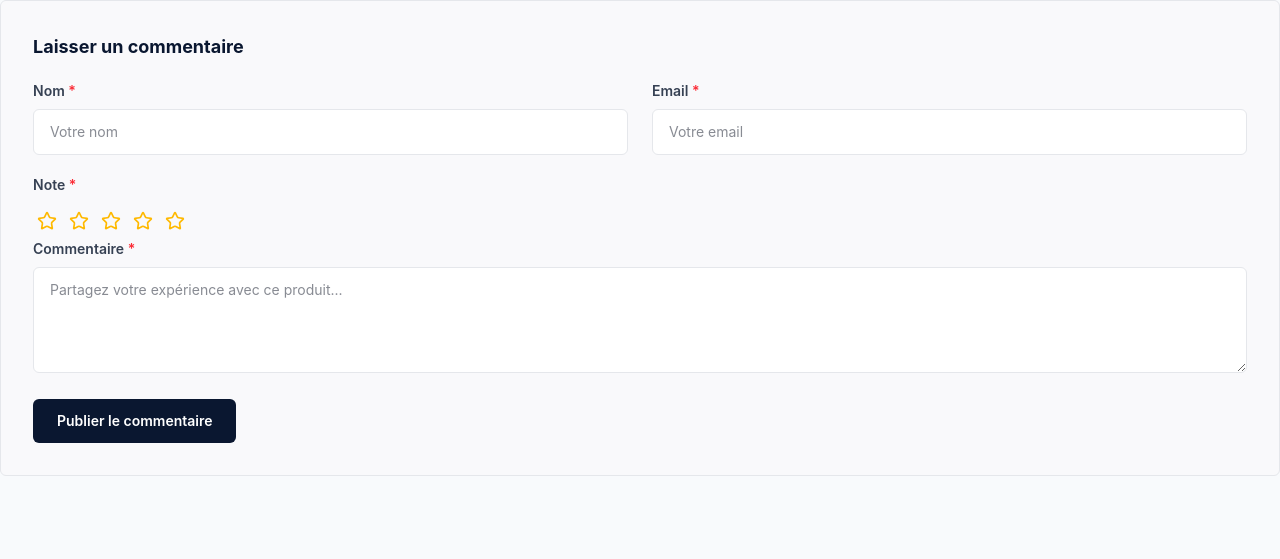
Test: ReviewForm › erreur si commentaire trop court
This screenshot has width=1280, height=559.
Type "Jean Dupont" into the field labelled "Nom *" at coordinates (330, 132), box [33,109,628,155]
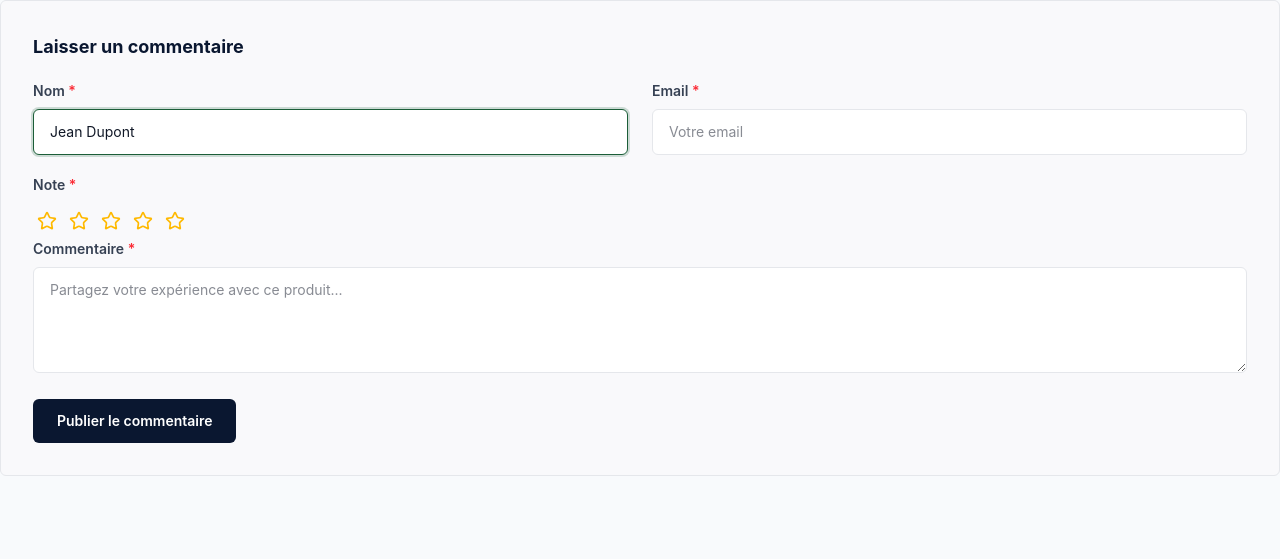
Type "ok" into the text box labelled "Commentaire *" at coordinates (640, 320), box [33,267,1247,373]
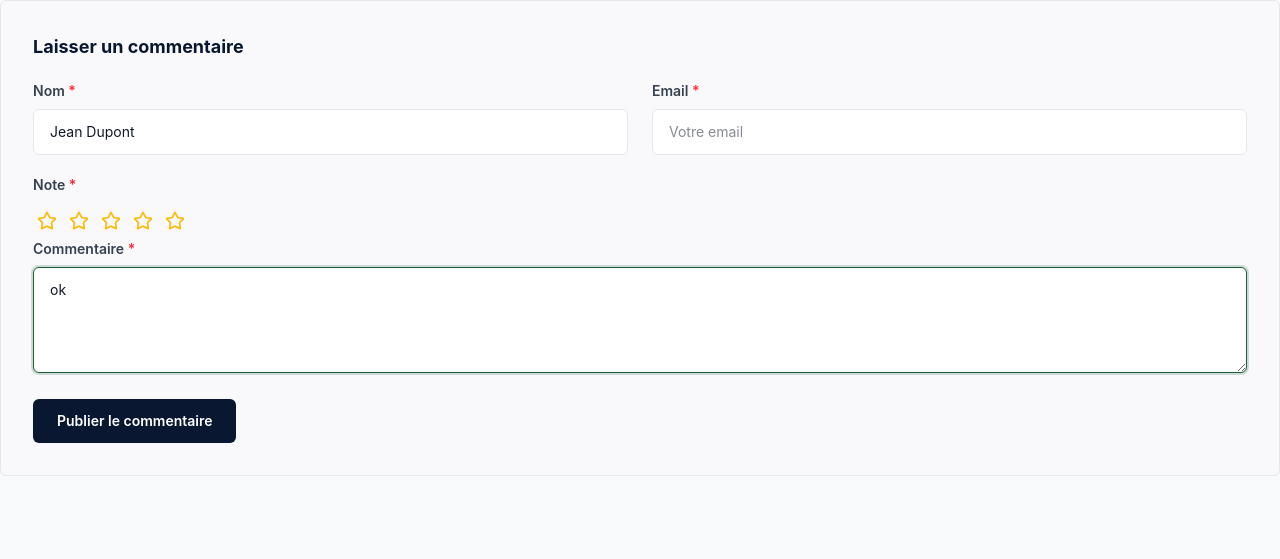
Click the button named "3 étoiles sur 5" at coordinates (111, 221), box [97,207,125,235]
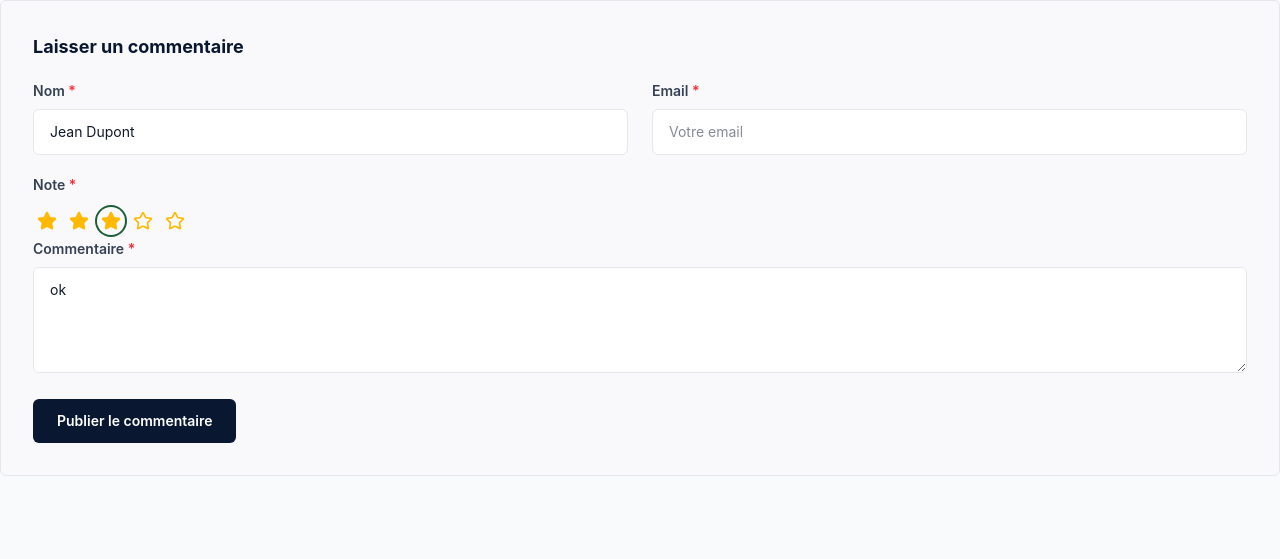
Click the button "Publier le commentaire" at coordinates (135, 421), box [33,399,236,443]
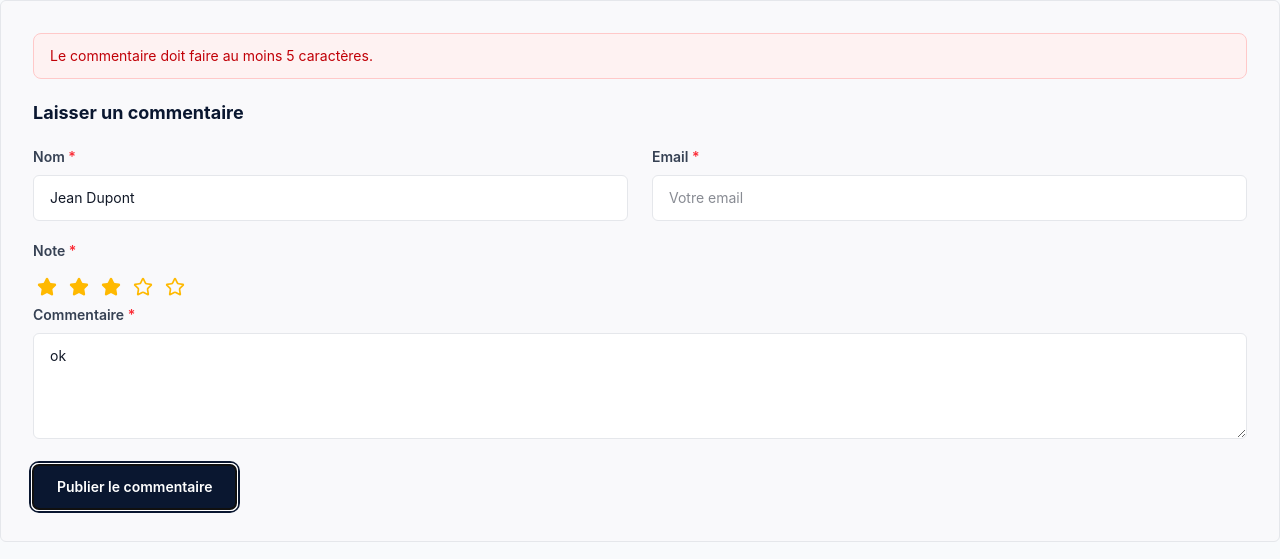
Now the message shows "commentaire doit faire au moins 5", box [50,47,373,64]
